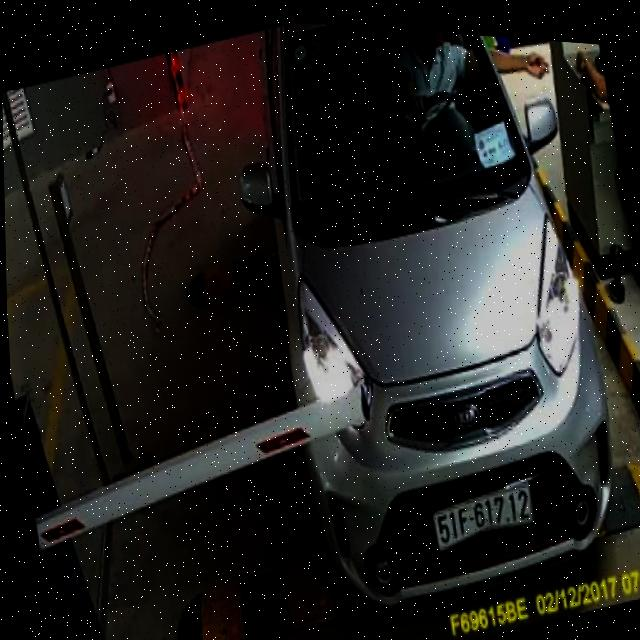car: (221, 16, 626, 634)
plate: (425, 467, 542, 566)
